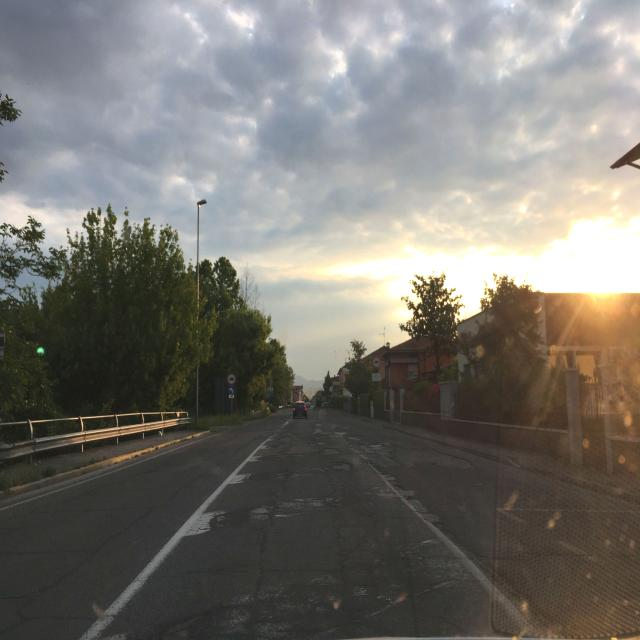car: (292, 400, 308, 420)
